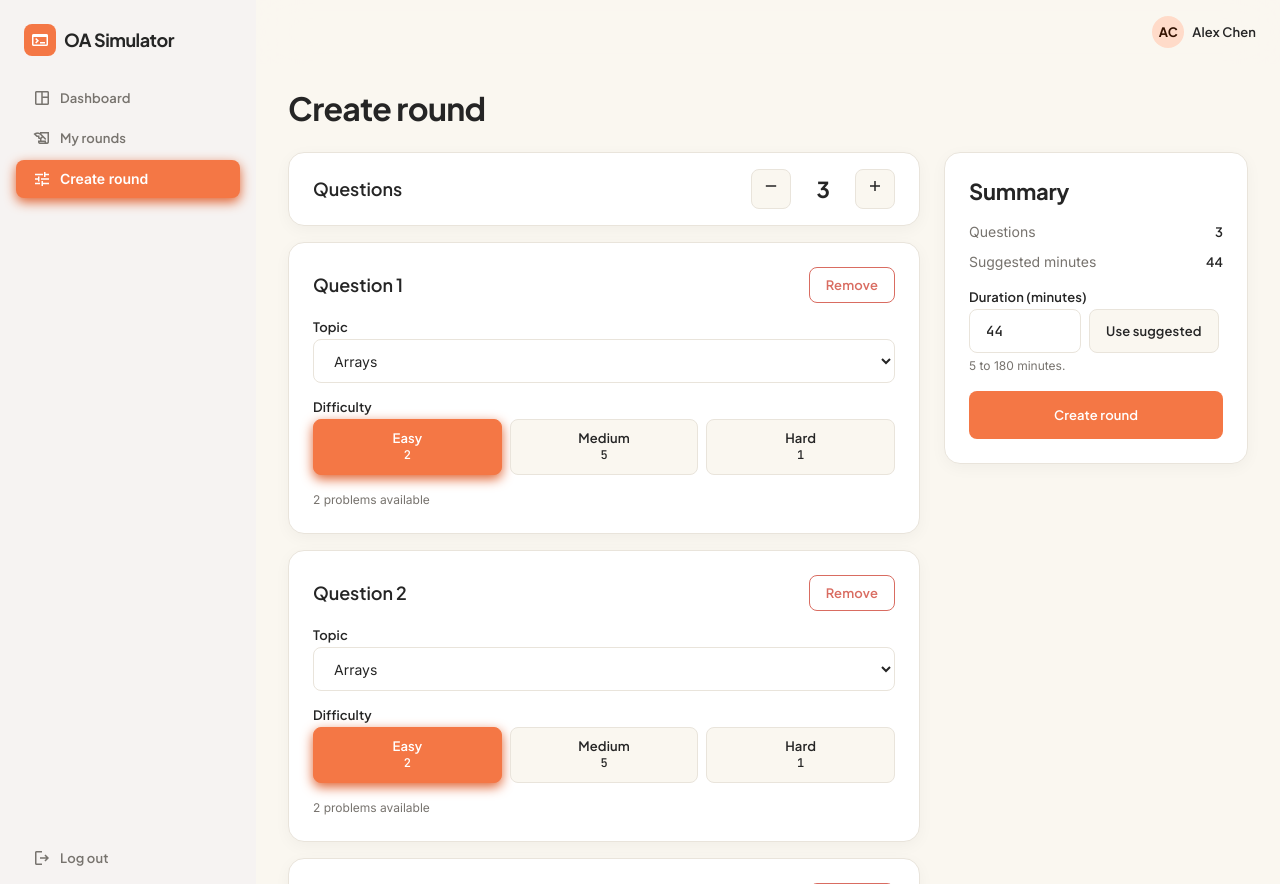
S5 layout and defaults › each difficulty option shows the count from E5, and an option with 0 is disabled
The width and height of the screenshot is (1280, 884).
Expected: the element "Question 1" is shown, [288,242,920,534]
Expected: the 1st radio button labelled "Easy 2" is shown, [313,419,502,475]
Step 1. Select "Graphs" in the 1st dropdown labelled "Topic" → coordinates (604, 361), box [313,339,895,383]
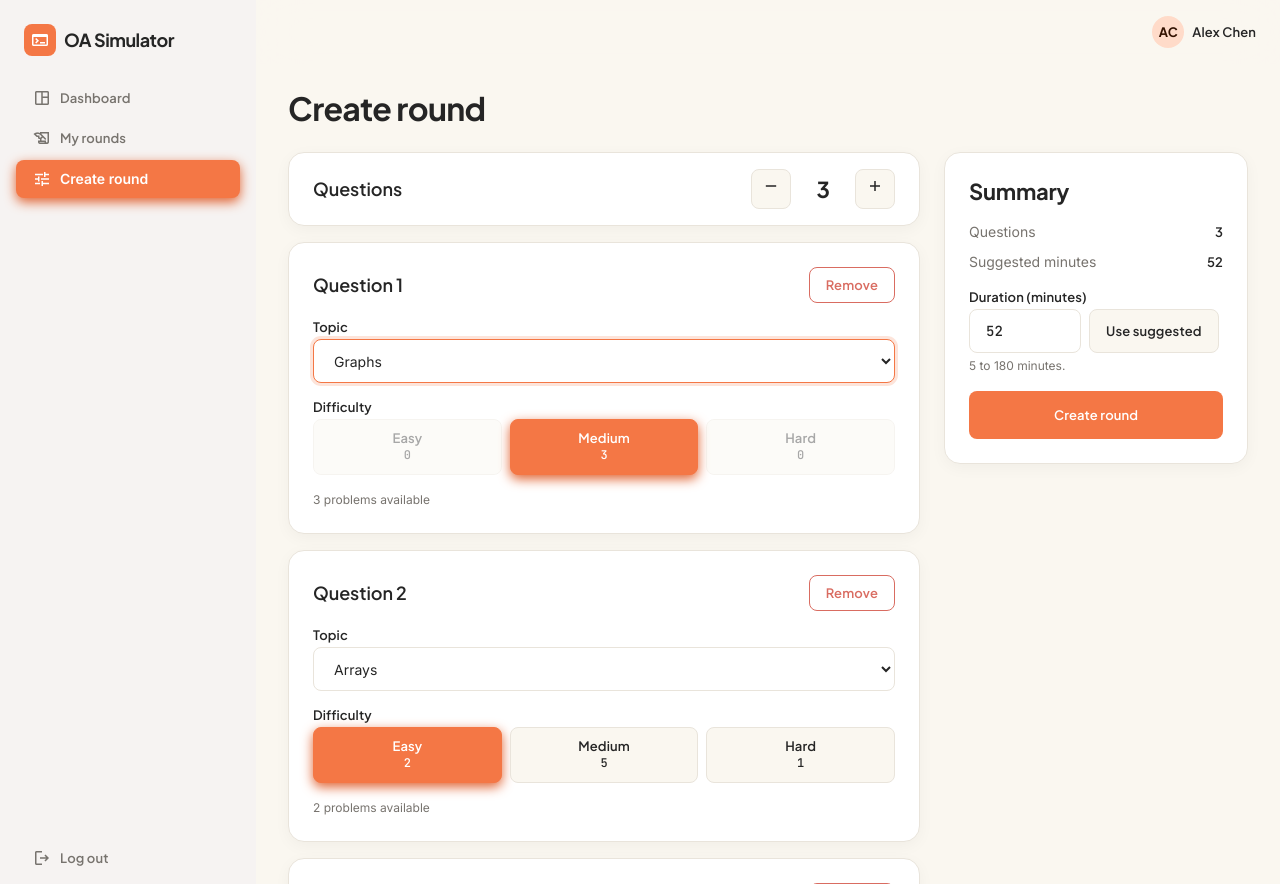
Expected: the radio button labelled "Medium 3" is enabled, [510,419,698,475]
Now the radio button labelled "Easy 0" is disabled, box [313,419,502,475]
Now the radio button labelled "Hard 0" is disabled, box [706,419,895,475]
